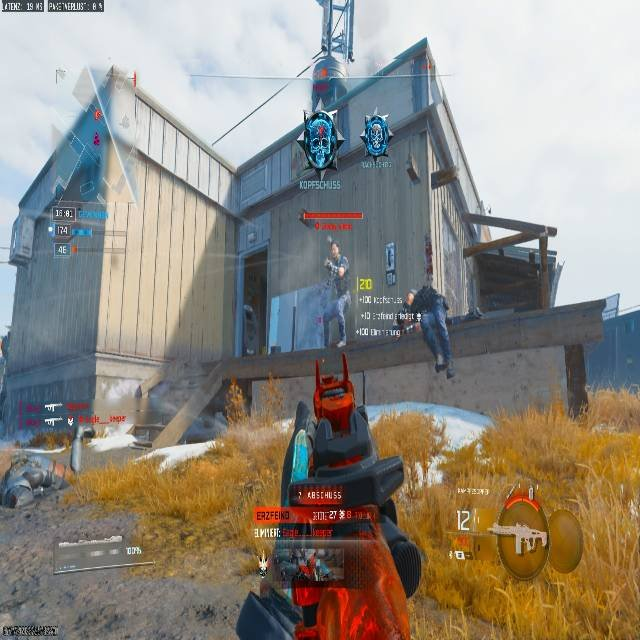head: (330, 242, 339, 257)
player: (235, 372, 423, 638), (297, 237, 352, 350), (402, 285, 455, 379), (362, 111, 391, 164), (323, 242, 349, 298), (322, 236, 347, 274)
